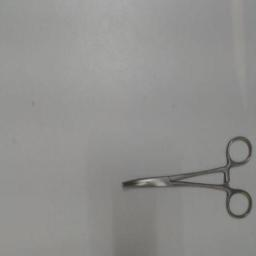Crile Artery Forceps: (115, 130, 255, 226)
